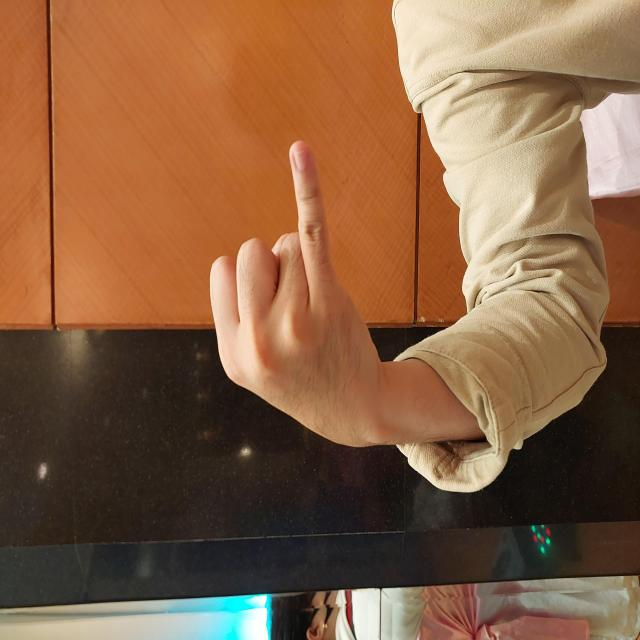J: (192, 208, 502, 384)
